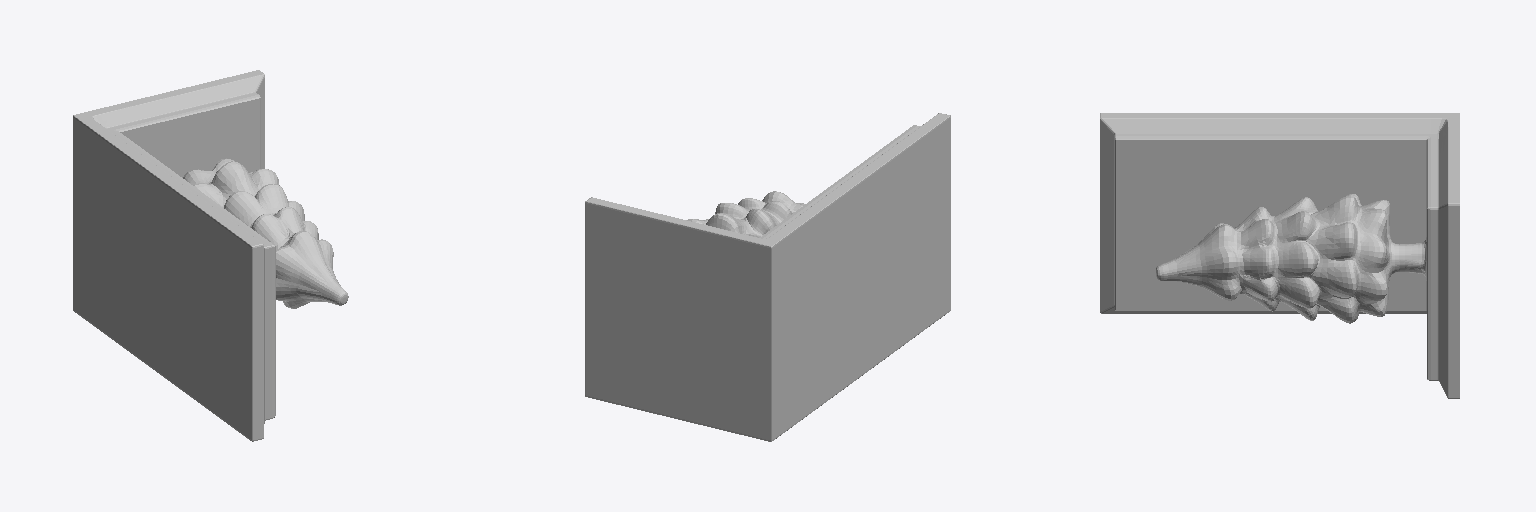
The model's file is bookendTree.obj.
3 views of the same model, side by side, from view 1: azimuth 30°, elevation 25°; view 2: azimuth 150°, elevation 25°; view 3: azimuth 270°, elevation 25° (orthographic).
Visible parts, largest first — view 1: 15333_BookendDouglasFir; view 2: 15333_BookendDouglasFir; view 3: 15333_BookendDouglasFir.
Boxes of the visible parts, x1=… form: 15333_BookendDouglasFir: x1=73, y1=70, x2=348, y2=441; 15333_BookendDouglasFir: x1=585, y1=113, x2=950, y2=441; 15333_BookendDouglasFir: x1=1100, y1=113, x2=1459, y2=398.
Bounding box in the file's own units: 12.01 × 12 × 20.